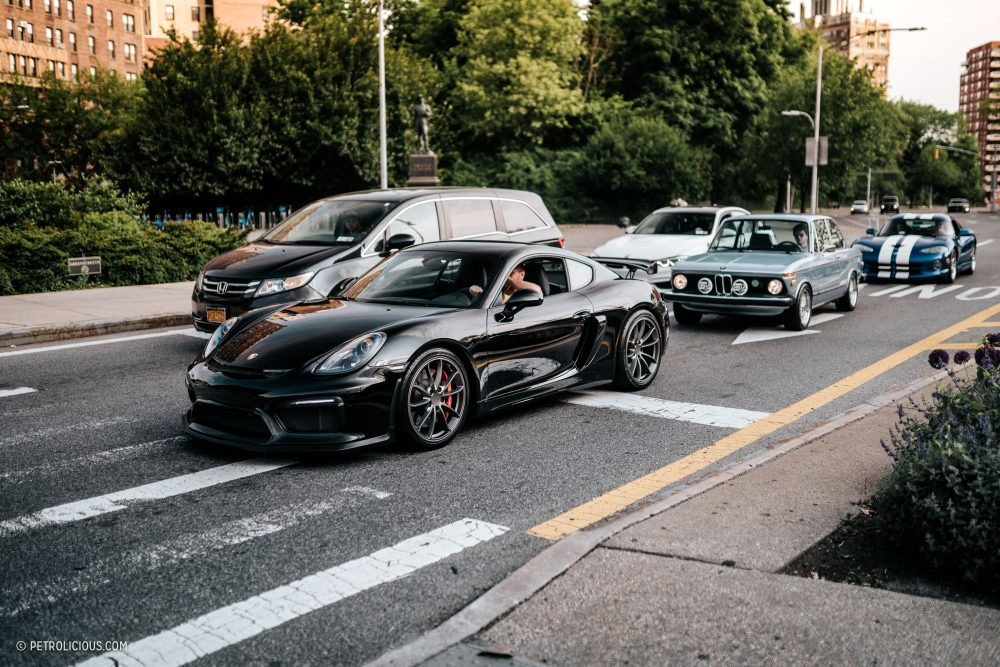car: (192, 237, 663, 424), (186, 190, 572, 319), (710, 219, 868, 324), (860, 206, 977, 284), (593, 212, 739, 269), (879, 195, 901, 213), (951, 199, 973, 216), (849, 200, 869, 214)
